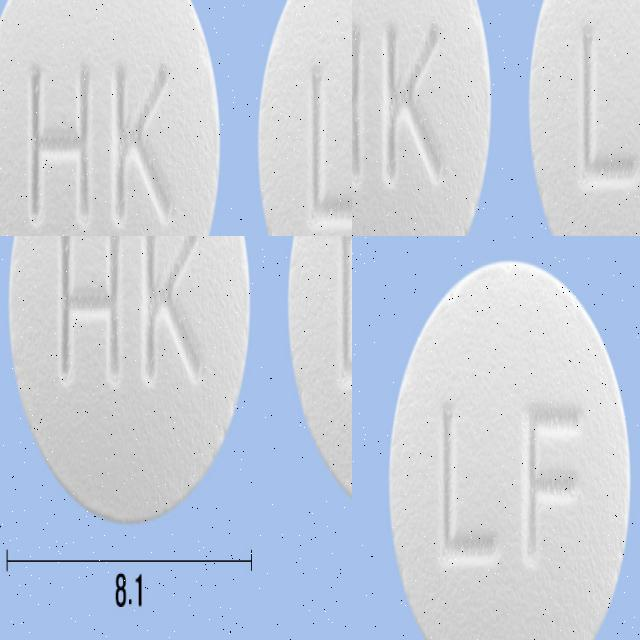Klaricid Film Coated - 500mg: (352, 162, 638, 236)
Levotacin: (389, 256, 631, 640)
Noxafil Gastro-Resistant Tab: (13, 372, 352, 621)
Roxinmycin Tab: (0, 0, 221, 236), (261, 0, 352, 236)
